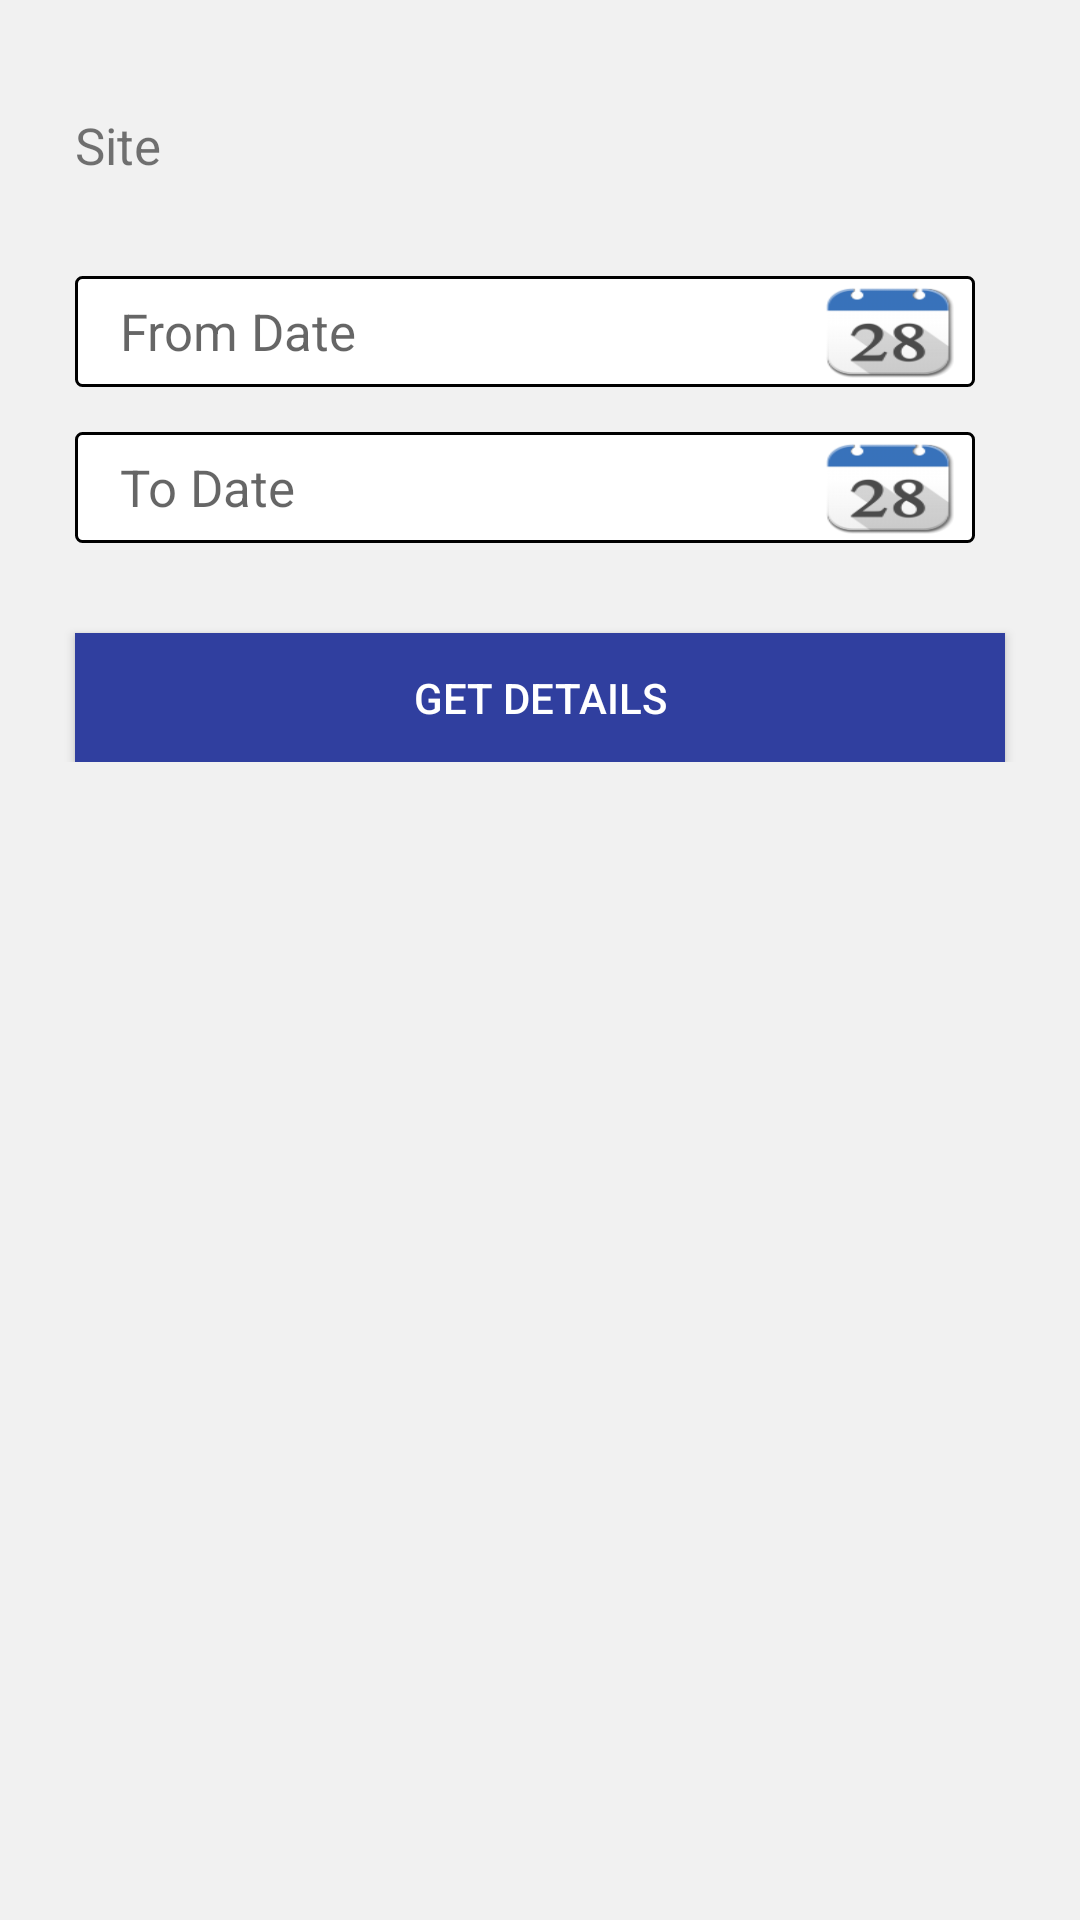

Screen size 1080w x 1920h. Icon name, then its box in pixels as (x1, y1, x2, y2):
calendar: (826, 288, 953, 377), (826, 444, 953, 533)
